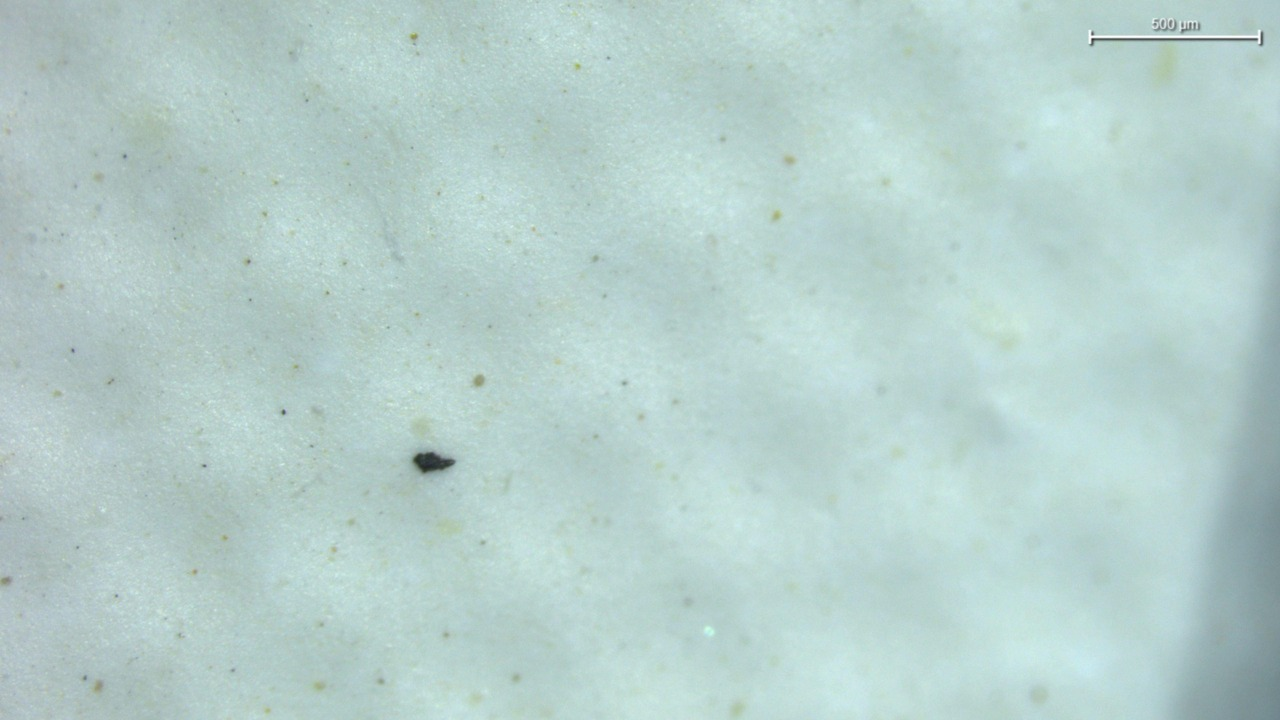microplastic_fragment: (412, 452, 455, 472)
